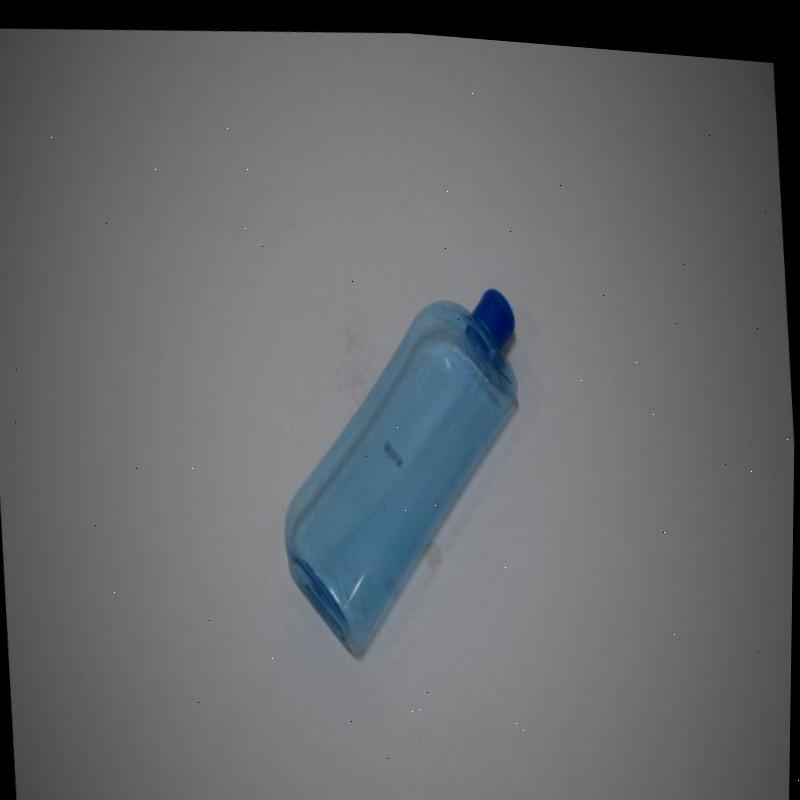botella: (265, 265, 539, 670)
